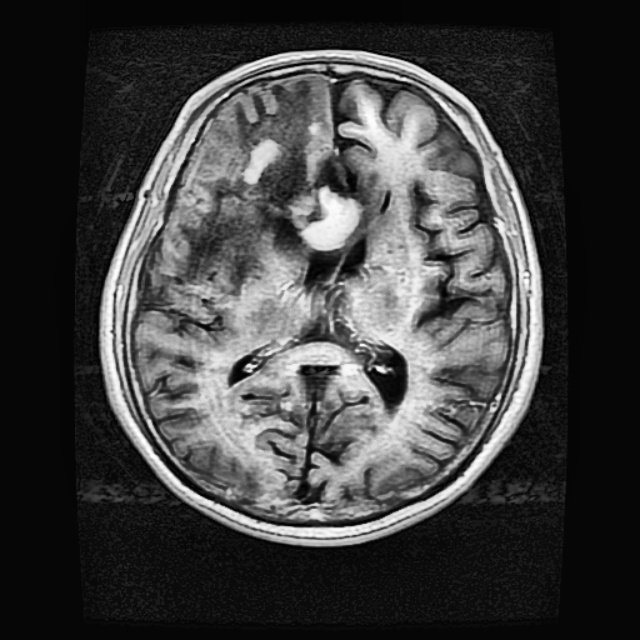Glioma: (168, 80, 372, 299)
